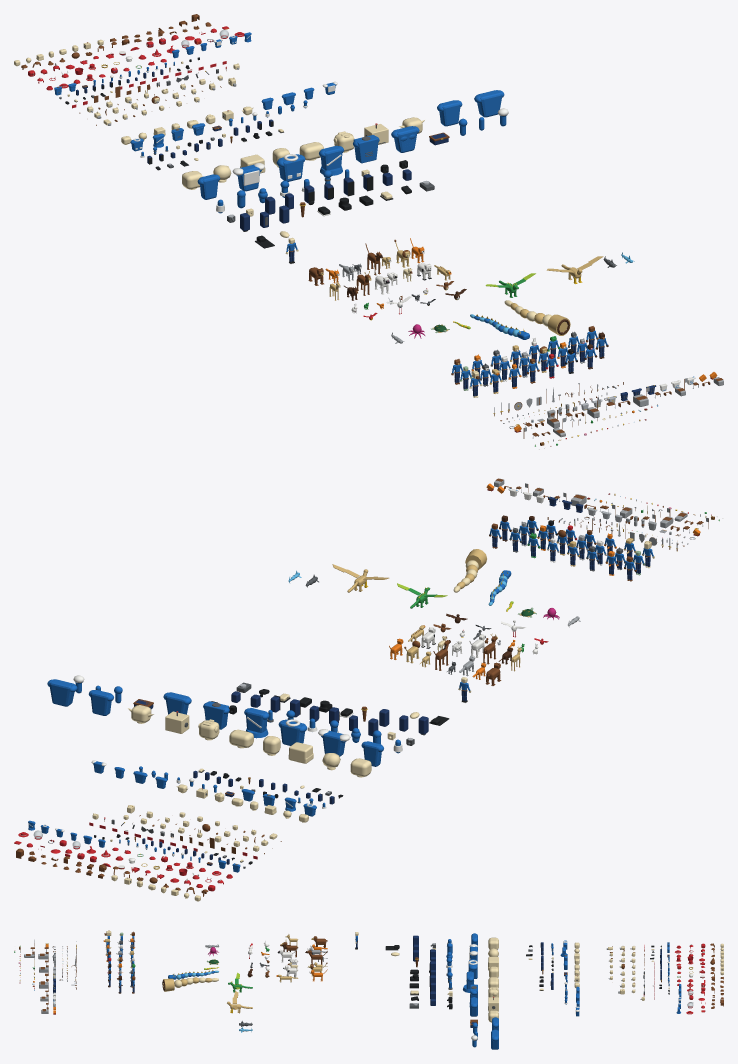
File: bodies.glb
3 views of the same model, one above another, from view 1: azimuth 30°, elevation 25°; view 2: azimuth 150°, elevation 25°; view 3: azimuth 270°, elevation 25° (orthographic). The views are drawn at different scales.
Size of what is drawn, in the model's own units: 74.09 by 6.07 by 210.
